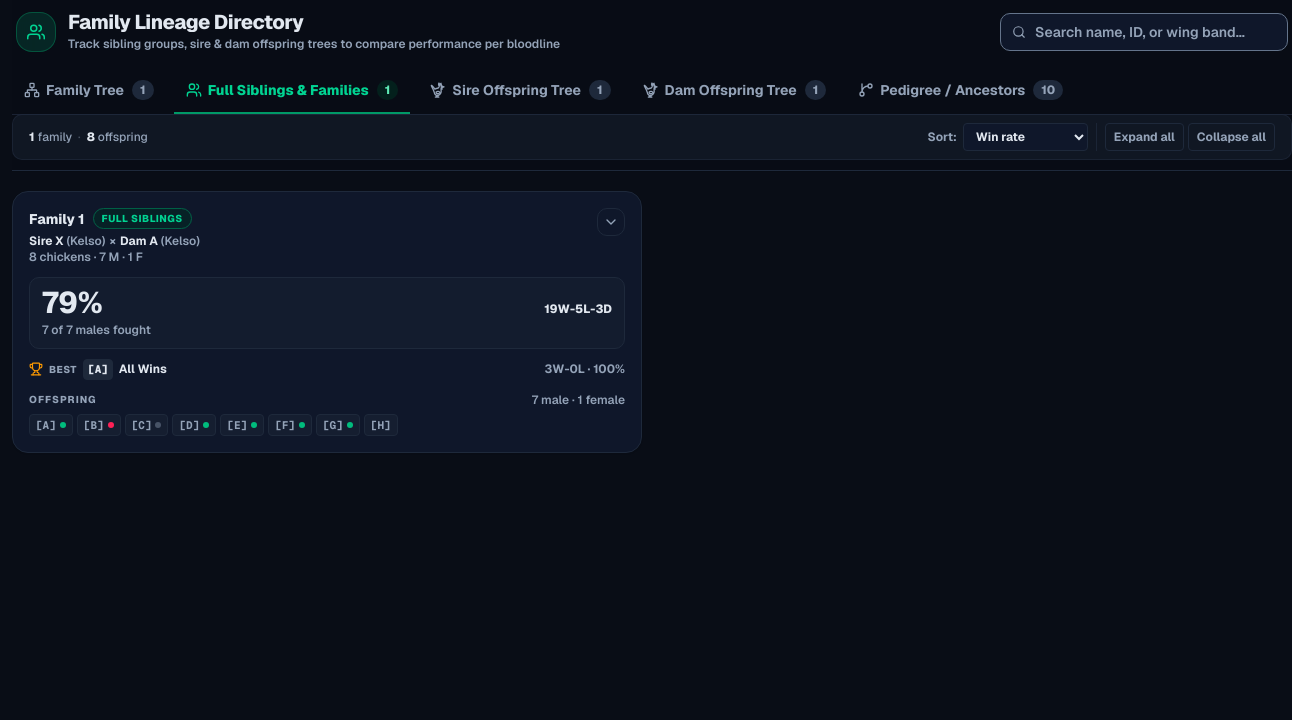
it: Match Logs records match the Lineage Directory › shows the same lifetime record in both views for every fighting chicken
The width and height of the screenshot is (1292, 720).
Click the tab "Sire Offspring Tree 1": (520, 91) [418, 68, 623, 114]
(page scrolled)
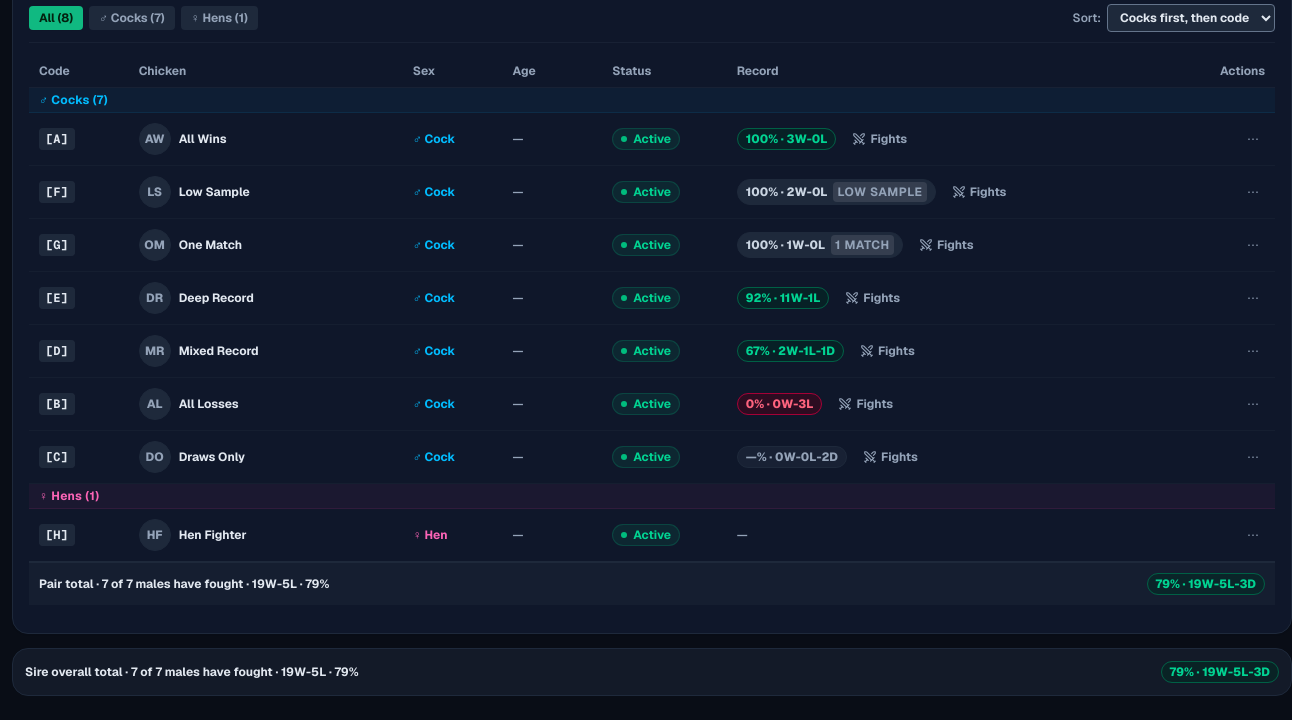
Expected: the text "All Wins" is shown, [179, 131, 227, 147]
Expected: the text "100% · 3W-0L" is shown, [746, 131, 827, 147]
Expected: the text "All Losses" is shown, [179, 396, 239, 412]
